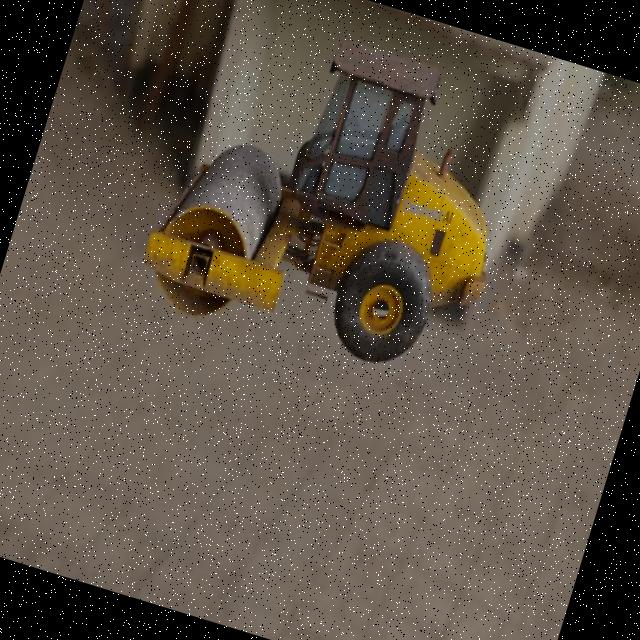Roller: (129, 0, 541, 396)
